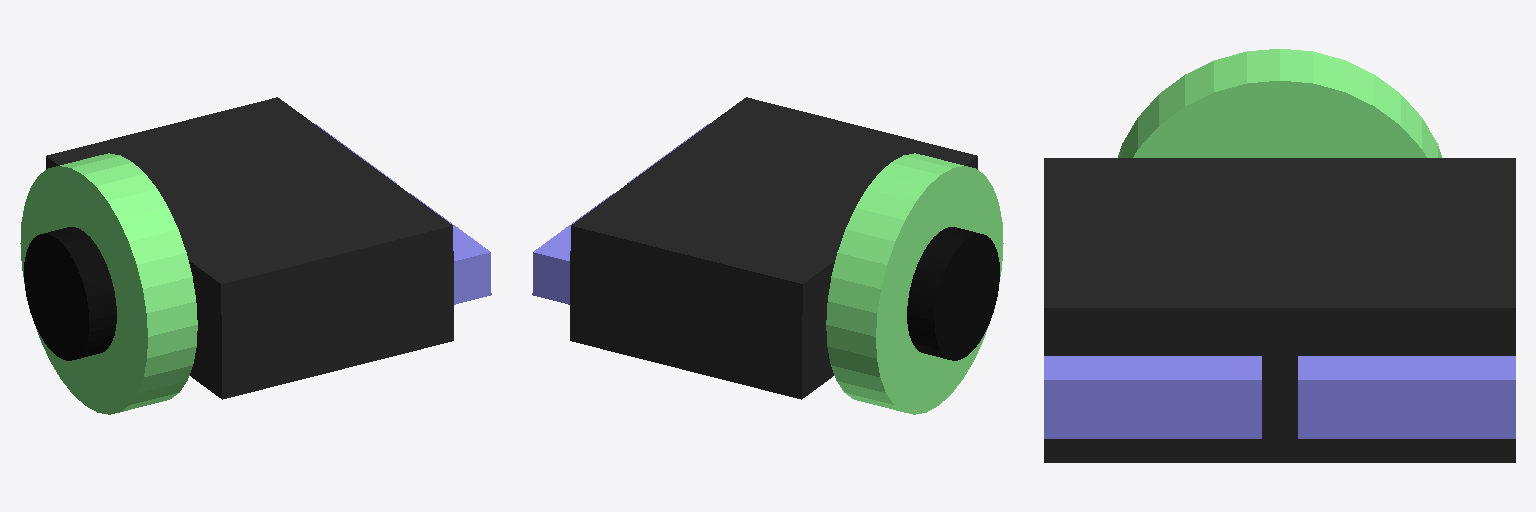
robot.urdf — vp6242_block_printer:
<?xml version="1.0" ?>
<!-- =================================================================================== -->
<!-- |    This document was autogenerated by xacro from vp6242_block_printer_macro.xacro | -->
<!-- |    EDITING THIS FILE BY HAND IS NOT RECOMMENDED                                 | -->
<!-- =================================================================================== -->
<robot name="vp6242_block_printer" xmlns:xacro="http://www.ros.org/wiki/xacro">
  <!-- Limits Joint: J1 J2 J3 J4 J5 J6 
               Max : [phone redacted] 120 360 
               Min :-160 -120 19 -160 -120 -360 -->
  <link name="base_link">
    <visual>
      <geometry>
        <mesh filename="package://vp6242_description/meshes/visual/base.dae" scale="0.001 0.001 0.001"/>
      </geometry>
      <origin rpy="-1.570796 3.141592 0" xyz="0 0 0"/>
    </visual>
    <collision>
      <geometry>
        <mesh filename="package://vp6242_description/meshes/collision/base.dae" scale="0.001 0.001 0.001"/>
      </geometry>
      <origin rpy="-1.570796 3.141592 0" xyz="0 0 0"/>
    </collision>
  </link>
  <link name="link1">
    <visual>
      <geometry>
        <mesh filename="package://vp6242_description/meshes/visual/link1.dae" scale="0.001 0.001 0.001"/>
      </geometry>
      <origin rpy="-1.570796 3.141592 0" xyz="0 0 0"/>
    </visual>
    <collision>
      <geometry>
        <mesh filename="package://vp6242_description/meshes/collision/link1.dae" scale="0.001 0.001 0.001"/>
      </geometry>
      <origin rpy="-1.570796 3.141592 0" xyz="0 0 0"/>
    </collision>
  </link>
  <link name="link2">
    <visual>
      <geometry>
        <mesh filename="package://vp6242_description/meshes/visual/link2.dae" scale="0.001 0.001 0.001"/>
      </geometry>
      <origin rpy="-1.570796 3.141592 0" xyz="0 0 0"/>
    </visual>
    <collision>
      <geometry>
        <mesh filename="package://vp6242_description/meshes/collision/link2.dae" scale="0.001 0.001 0.001"/>
      </geometry>
      <origin rpy="-1.570796 3.141592 0" xyz="0 0 0"/>
    </collision>
  </link>
  <link name="link3">
    <visual>
      <geometry>
        <mesh filename="package://vp6242_description/meshes/visual/link3.dae" scale="0.001 0.001 0.001"/>
      </geometry>
      <origin rpy="-1.570796 1.570796 0" xyz="0 0 0"/>
    </visual>
    <collision>
      <geometry>
        <mesh filename="package://vp6242_description/meshes/collision/link3.dae" scale="0.001 0.001 0.001"/>
      </geometry>
      <origin rpy="-1.570796 1.570796 0" xyz="0 0 0"/>
    </collision>
  </link>
  <link name="link4">
    <visual>
      <geometry>
        <mesh filename="package://vp6242_description/meshes/visual/link4.dae" scale="0.001 0.001 0.001"/>
      </geometry>
      <origin rpy="0 1.570796 1.570796" xyz="0 0 0.085"/>
    </visual>
    <collision>
      <geometry>
        <mesh filename="package://vp6242_description/meshes/collision/link4.dae" scale="0.001 0.001 0.001"/>
      </geometry>
      <origin rpy="0 1.570796 1.570796" xyz="0 0 0.085"/>
    </collision>
  </link>
  <link name="link5">
    <visual>
      <geometry>
        <mesh filename="package://vp6242_description/meshes/visual/link5.dae" scale="0.001 0.001 0.001"/>
      </geometry>
      <origin rpy="0 1.570796 1.570796" xyz="0 0 0.0"/>
    </visual>
    <collision>
      <geometry>
        <mesh filename="package://vp6242_description/meshes/collision/link5.dae" scale="0.001 0.001 0.001"/>
      </geometry>
      <origin rpy="0 1.570796 1.570796" xyz="0 0 0.0"/>
    </collision>
  </link>
  <link name="link6">
    <visual>
      <geometry>
        <cylinder length="0.01" radius="0.0205"/>
      </geometry>
      <origin rpy="0 0 0" xyz="0.0 0.0 -0.005"/>
      <material name="plate">
        <color rgba="0.1 0.1 0.1 0.8"/>
      </material>
    </visual>
    <collision>
      <geometry>
        <cylinder length="0.01" radius="0.0205"/>
      </geometry>
      <origin rpy="0 0 0" xyz="0.0 0.0 -0.005"/>
    </collision>
  </link>
  <link name="tool0"/>
  <!-- Joint list -->
  <joint name="joint1" type="revolute">
    <origin rpy="0 0 0" xyz="0.0 0.0 0.155"/>
    <parent link="base_link"/>
    <child link="link1"/>
    <axis xyz="0 0 1"/>
    <limit effort="100000" lower="-2.792526803" upper="2.792526803" velocity="4.36332312999"/>
  </joint>
  <joint name="joint2" type="revolute">
    <origin rpy="0 0 0" xyz="0.0 0.0 0.125"/>
    <parent link="link1"/>
    <child link="link2"/>
    <axis xyz="0 1 0"/>
    <limit effort="100000" lower="-2.094395102" upper="2.094395102" velocity="3.26376570123"/>
  </joint>
  <joint name="joint3" type="revolute">
    <origin rpy="0 0 0" xyz="0.0 0.0 0.210"/>
    <parent link="link2"/>
    <child link="link3"/>
    <axis xyz="0 1 0"/>
    <limit effort="100000" lower="0.331612558" upper="2.792526803" velocity="4.36332312999"/>
  </joint>
  <joint name="joint4" type="revolute">
    <origin rpy="0 0 0" xyz="-0.075 0.0 0.0"/>
    <parent link="link3"/>
    <child link="link4"/>
    <axis xyz="0 0 1"/>
    <limit effort="100000" lower="-2.792526803" upper="2.792526803" velocity="5.23598775598"/>
  </joint>
  <joint name="joint5" type="revolute">
    <origin rpy="0 0 0" xyz="0.0 0.0 0.210"/>
    <parent link="link4"/>
    <child link="link5"/>
    <axis xyz="0 1 0"/>
    <limit effort="100000" lower="-2.094395102" upper="2.094395102" velocity="5.23598775598"/>
  </joint>
  <joint name="joint6" type="revolute">
    <origin rpy="0 0 0" xyz="0.0 0.0 0.07"/>
    <parent link="link5"/>
    <child link="link6"/>
    <axis xyz="0 0 1"/>
    <limit effort="100000" lower="-3.14159265359" upper="3.14159265359" velocity="5.23598775598"/>
  </joint>
  <joint name="joint6-tool0" type="fixed">
    <parent link="link6"/>
    <child link="tool0"/>
    <origin rpy="0 0 0" xyz="0 0 0"/>
  </joint>
  <link name="robot_gripper_interface1">
    <collision>
      <origin rpy="0 0 0" xyz="0 0 0.0045"/>
      <geometry>
        <cylinder length="0.009" radius="0.04"/>
      </geometry>
    </collision>
    <visual>
      <origin rpy="0 0 0" xyz="0 0 0.0045"/>
      <geometry>
        <cylinder length="0.009" radius="0.04"/>
      </geometry>
      <material name="material_color_robot_gripper_interface1">
        <color rgba="0.6 1 0.6 1"/>
      </material>
    </visual>
  </link>
  <link name="robot_gripper_interface2">
    <collision>
      <origin rpy="0 0 0" xyz="0 0 0.0045"/>
      <geometry>
        <cylinder length="0.009" radius="0.04"/>
      </geometry>
    </collision>
    <visual>
      <origin rpy="0 0 0" xyz="0 0 0.0045"/>
      <geometry>
        <cylinder length="0.009" radius="0.04"/>
      </geometry>
      <material name="material_color_robot_gripper_interface2">
        <color rgba="0.6 1 0.6 1"/>
      </material>
    </visual>
  </link>
  <link name="gripper_body">
    <collision>
      <origin rpy="0 0 0" xyz="0 0 0.042"/>
      <geometry>
        <box size="0.11 0.04 0.084"/>
      </geometry>
    </collision>
    <visual>
      <origin rpy="0 0 0" xyz="0 0 0.042"/>
      <geometry>
        <box size="0.11 0.04 0.084"/>
      </geometry>
      <material name="material_color_gripper_body">
        <color rgba="0.2 0.2 0.2 1"/>
      </material>
    </visual>
  </link>
  <link name="right_claw">
    <collision>
      <origin rpy="0 0 0" xyz="0 0 0.0068"/>
      <geometry>
        <box size="0.05075 0.015 0.0136"/>
      </geometry>
    </collision>
    <visual>
      <origin rpy="0 0 0" xyz="0 0 0.0068"/>
      <geometry>
        <box size="0.05075 0.015 0.0136"/>
      </geometry>
      <material name="material_color_right_claw">
        <color rgba="0.6 0.6 1 1"/>
      </material>
    </visual>
  </link>
  <link name="left_claw">
    <collision>
      <origin rpy="0 0 0" xyz="0 0 0.0068"/>
      <geometry>
        <box size="0.05075 0.015 0.0136"/>
      </geometry>
    </collision>
    <visual>
      <origin rpy="0 0 0" xyz="0 0 0.0068"/>
      <geometry>
        <box size="0.05075 0.015 0.0136"/>
      </geometry>
      <material name="material_color_left_claw">
        <color rgba="0.6 0.6 1 1"/>
      </material>
    </visual>
  </link>
  <link name="peak_tool"/>
  <!--joint of robot and gripper interface-->
  <joint name="robot_to_gripper" type="fixed">
    <parent link="tool0"/>
    <child link="robot_gripper_interface1"/>
    <origin rpy="0 0 1.57079632679" xyz="0 0 0"/>
  </joint>
  <!--joint of gripper interface and body-->
  <joint name="robot_to_gripper_interface_2" type="fixed">
    <parent link="robot_gripper_interface1"/>
    <child link="robot_gripper_interface2"/>
    <origin rpy="0 0 0" xyz="0 0 0.009"/>
  </joint>
  <joint name="interface_to_gripper_body" type="fixed">
    <parent link="robot_gripper_interface2"/>
    <child link="gripper_body"/>
    <origin rpy="0 0 0" xyz="0.0 0.0 0.009"/>
  </joint>
  <!--joint of gripper and claw-->
  <joint name="right_claw_joint" type="fixed">
    <parent link="gripper_body"/>
    <child link="right_claw"/>
    <origin rpy="0 0 0" xyz="0.029625 0 0.084"/>
  </joint>
  <joint name="left_claw_joint" type="fixed">
    <parent link="gripper_body"/>
    <child link="left_claw"/>
    <origin rpy="0 0 0" xyz="-0.029625 0 0.084"/>
  </joint>
  <!--joint of gripper and peak tool-->
  <joint name="peak_tool" type="fixed">
    <origin rpy="0 3.14159265359 0" xyz="0 0 0.0976"/>
    <parent link="gripper_body"/>
    <child link="peak_tool"/>
  </joint>
</robot>

--- Render facts (derived) ---
3 views of the same robot in one strip: view 1: azimuth 30°, elevation 25°; view 2: azimuth 150°, elevation 25°; view 3: azimuth 270°, elevation 25° (orthographic).
Robot: vp6242_block_printer — 14 links, 13 joints (6 revolute, 7 fixed); root link base_link; default pose: joints at zero except 1 at the middle of their limits (joint3 = 1.56).
Links seen in each view (by area): view 1: gripper_body, robot_gripper_interface1, link6, robot_gripper_interface2, left_claw; view 2: gripper_body, robot_gripper_interface1, link6, robot_gripper_interface2, right_claw; view 3: gripper_body, robot_gripper_interface2, right_claw, left_claw, robot_gripper_interface1.
Boxes of the visible links, <box> form: gripper_body: <box>46,97,453,399</box>; robot_gripper_interface1: <box>20,160,172,414</box>; link6: <box>24,227,116,360</box>; robot_gripper_interface2: <box>83,153,197,405</box>; left_claw: <box>409,193,491,304</box>; gripper_body: <box>570,97,977,399</box>; robot_gripper_interface1: <box>851,160,1003,414</box>; link6: <box>907,227,999,360</box>; robot_gripper_interface2: <box>826,153,940,405</box>; right_claw: <box>532,193,614,304</box>; gripper_body: <box>1044,158,1515,462</box>; robot_gripper_interface2: <box>1124,65,1435,157</box>; right_claw: <box>1298,356,1515,438</box>; left_claw: <box>1044,356,1261,438</box>; robot_gripper_interface1: <box>1118,49,1441,157</box>.
Bounding box of the posed robot: 0.1258 × 0.11 × 0.0802 m (x, y, z).
0 mesh visuals loaded from 6 distinct referenced files (none loaded); not drawn: 6 (reference not matched to a file when rendering).
